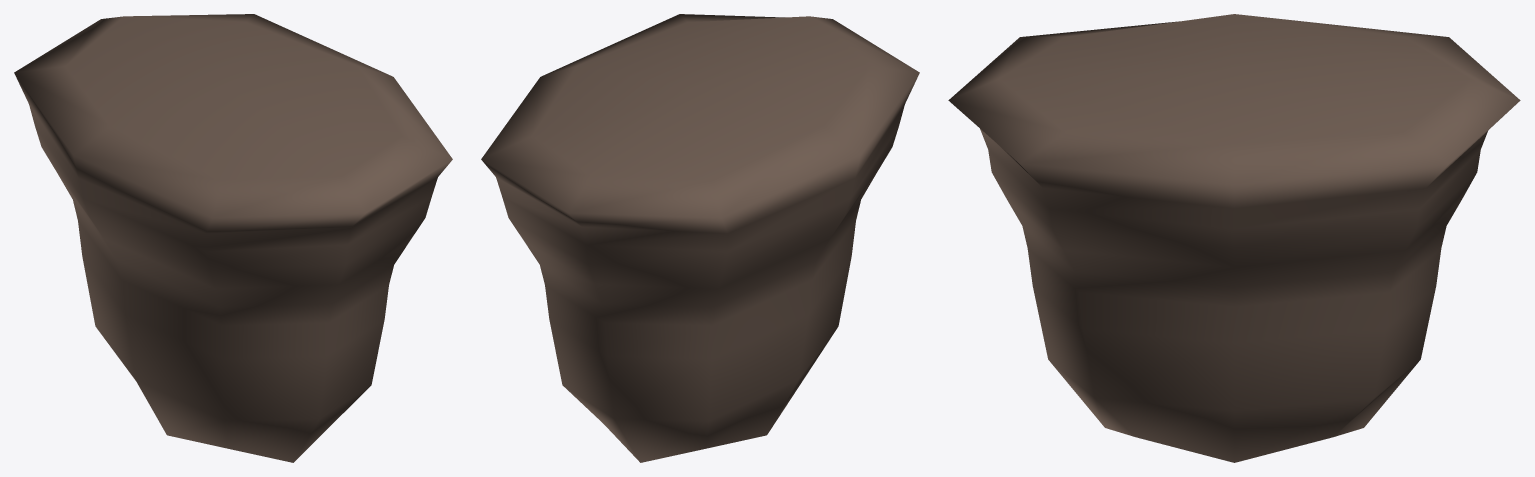
Rendered from SM_Stone4.fbx.
3 views of the same model, side by side, from view 1: azimuth 30°, elevation 25°; view 2: azimuth 150°, elevation 25°; view 3: azimuth 270°, elevation 25° (orthographic). The views are drawn at different scales.
Parts seen in each view (by area): view 1: SM_Stone_4; view 2: SM_Stone_4; view 3: SM_Stone_4.
Boxes of the visible parts, x1,y1,x2,y2 form: SM_Stone_4: (14,14,452,462); SM_Stone_4: (481,14,919,462); SM_Stone_4: (948,14,1520,462).
Bounding box in the file's own units: 4305 × 4503 × 6164.
